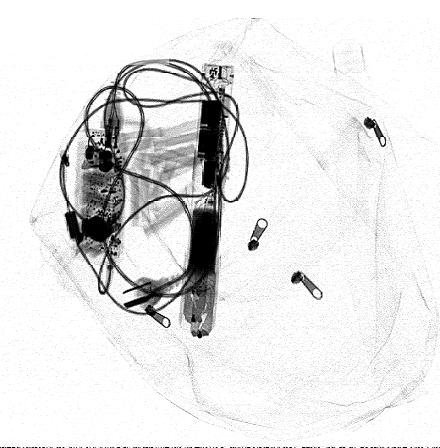Baton: (178, 62, 236, 339)
